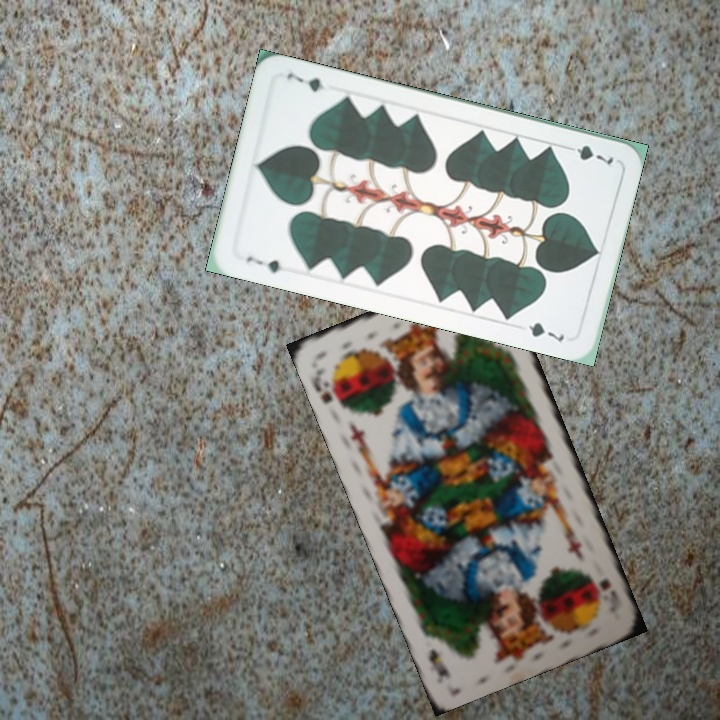G7: (560, 140, 616, 167), (242, 252, 284, 275)
SK: (307, 364, 348, 411), (595, 575, 620, 616)
